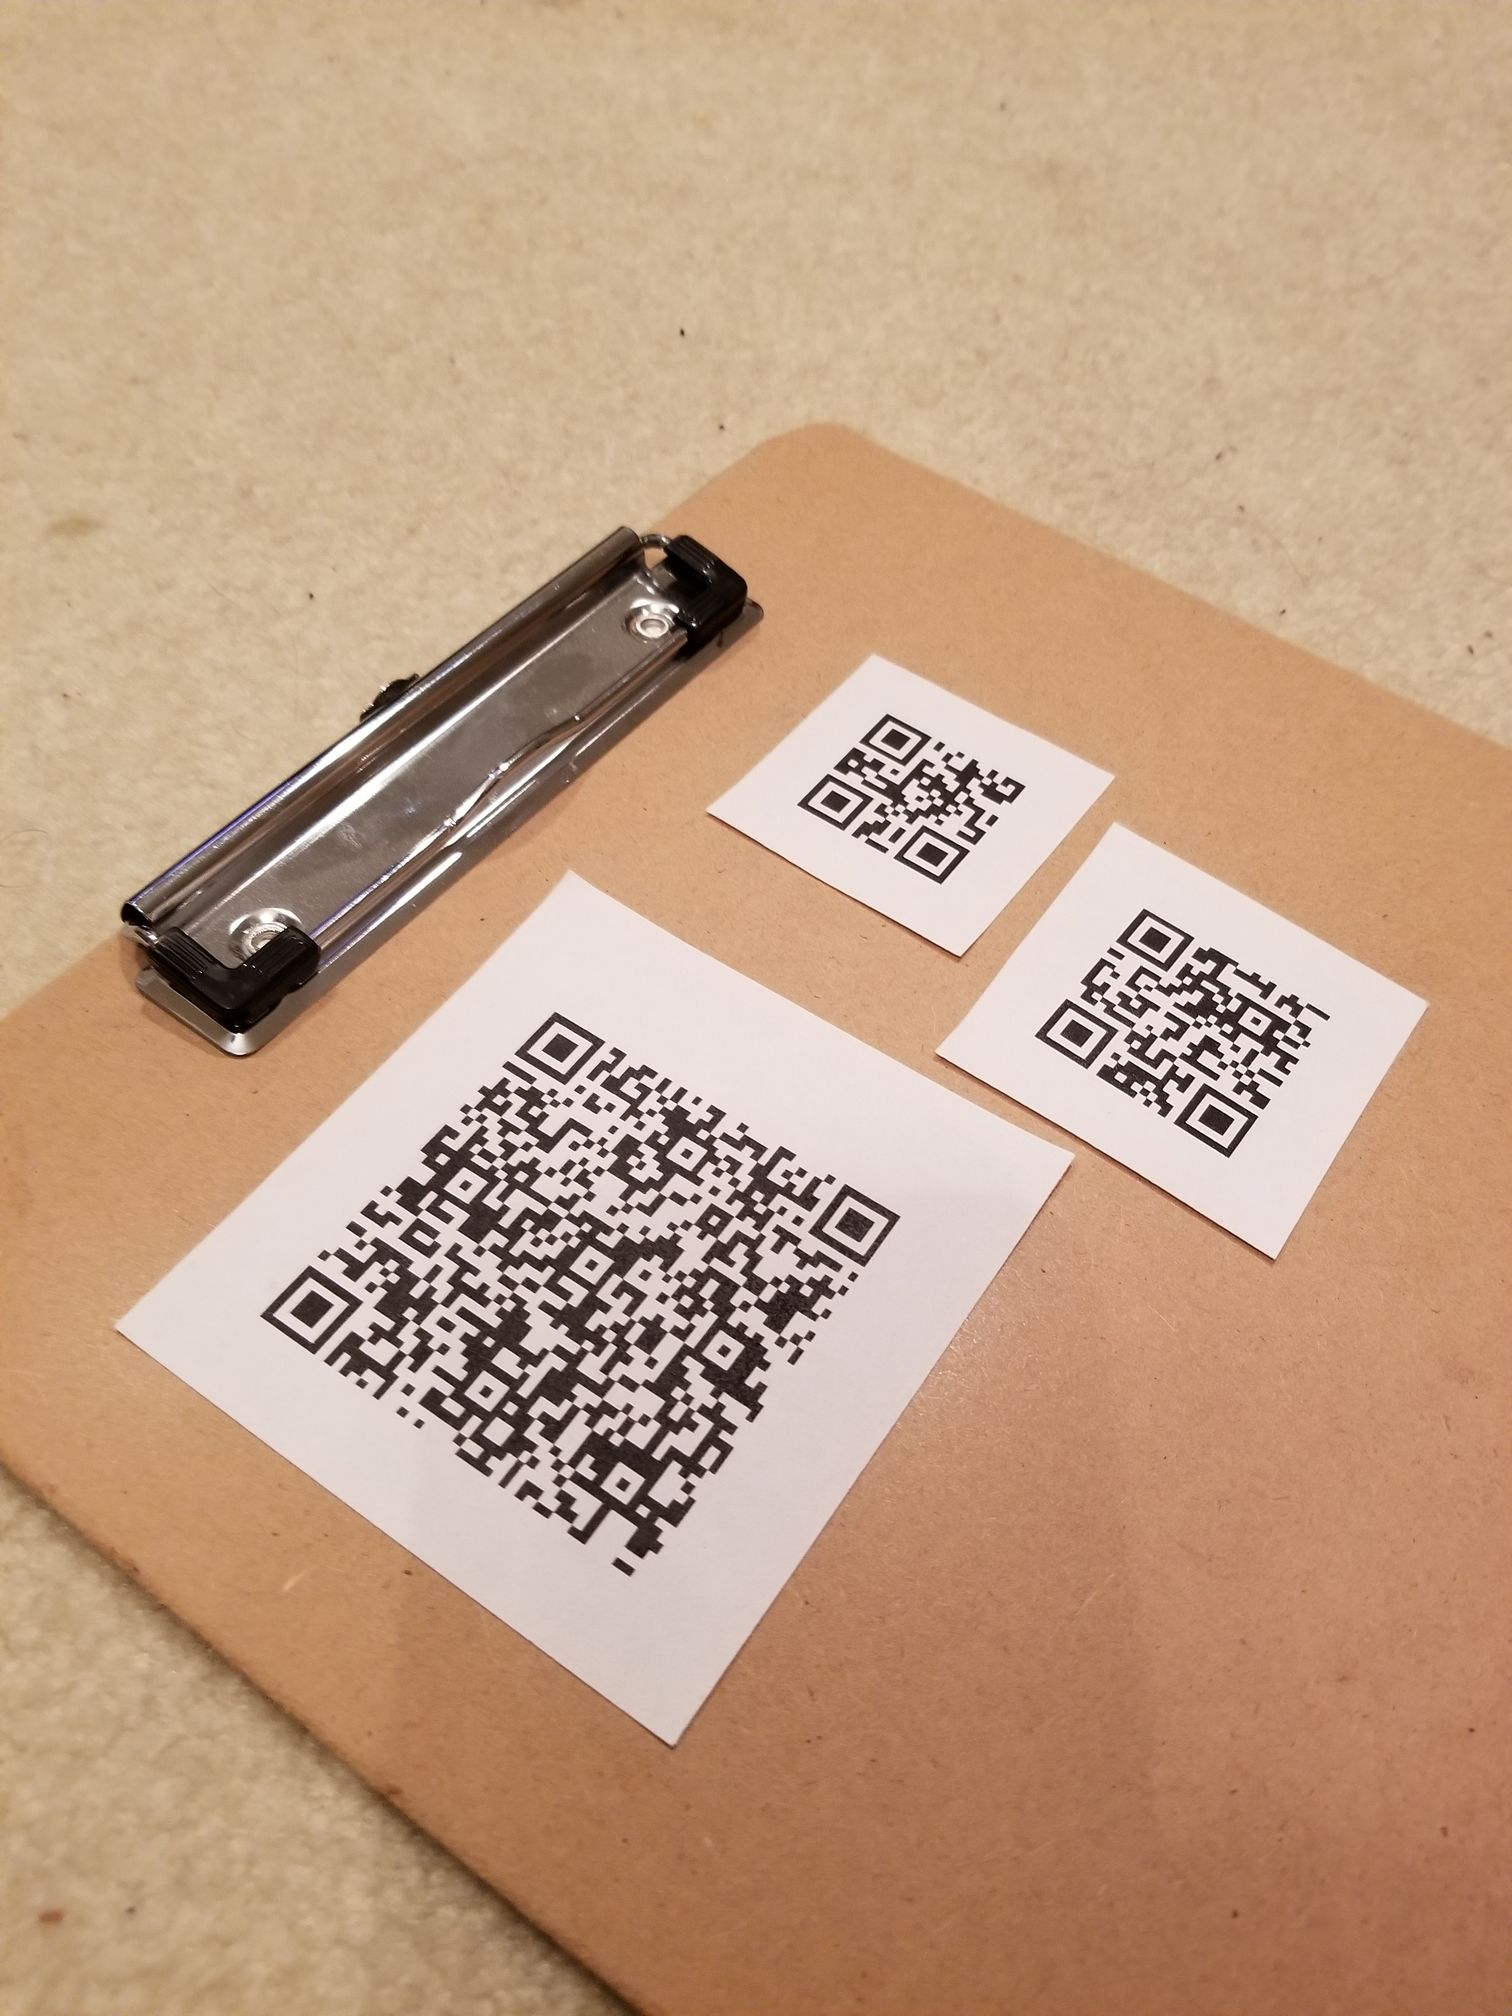QR_CODE: (200, 976, 966, 1608), (1013, 871, 1360, 1181), (777, 667, 1056, 902)
